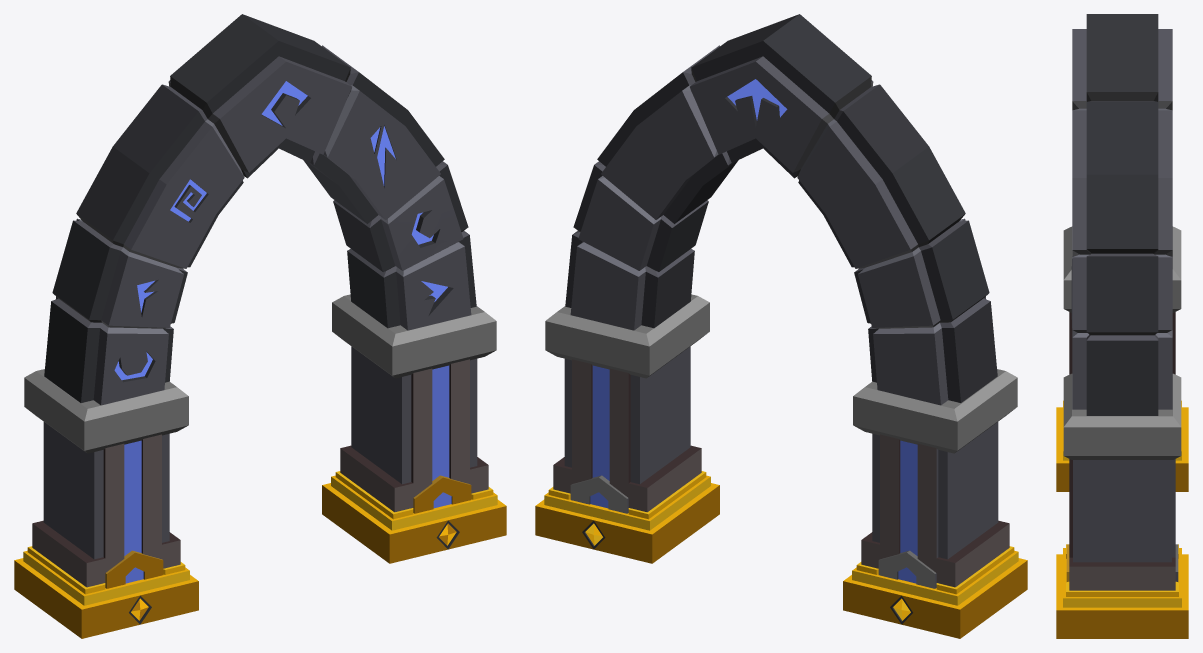
Rendered from ArchWay_01.glb.
3 renders of one model, left to right at view 1: azimuth 30°, elevation 25°; view 2: azimuth 150°, elevation 25°; view 3: azimuth 270°, elevation 25°, orthographic. The views are drawn at different scales.
Visible parts, largest first — view 1: Archway_01; view 2: Archway_01; view 3: Archway_01.
Part boxes in pixels (left/top/right/bottom): Archway_01: left=14, top=14, right=506, bottom=638; Archway_01: left=535, top=14, right=1027, bottom=638; Archway_01: left=1056, top=14, right=1188, bottom=638.
Size of what is drawn, in the model's own units: 4.43 by 5.33 by 1.22.
2 materials, 2 textured.
